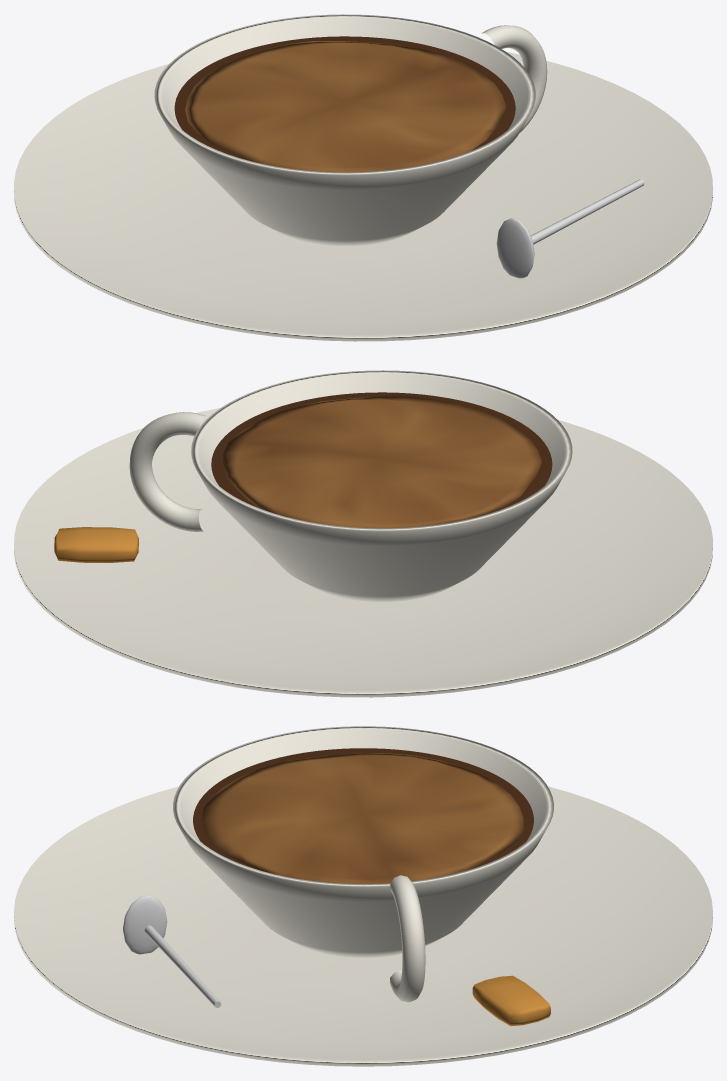
File: cafe.glb
3 renders of one model, top to bottom at view 1: azimuth 30°, elevation 25°; view 2: azimuth 150°, elevation 25°; view 3: azimuth 270°, elevation 25°, orthographic.
Bounding box in the file's own units: 0.1716 × 0.0399 × 0.1716.
